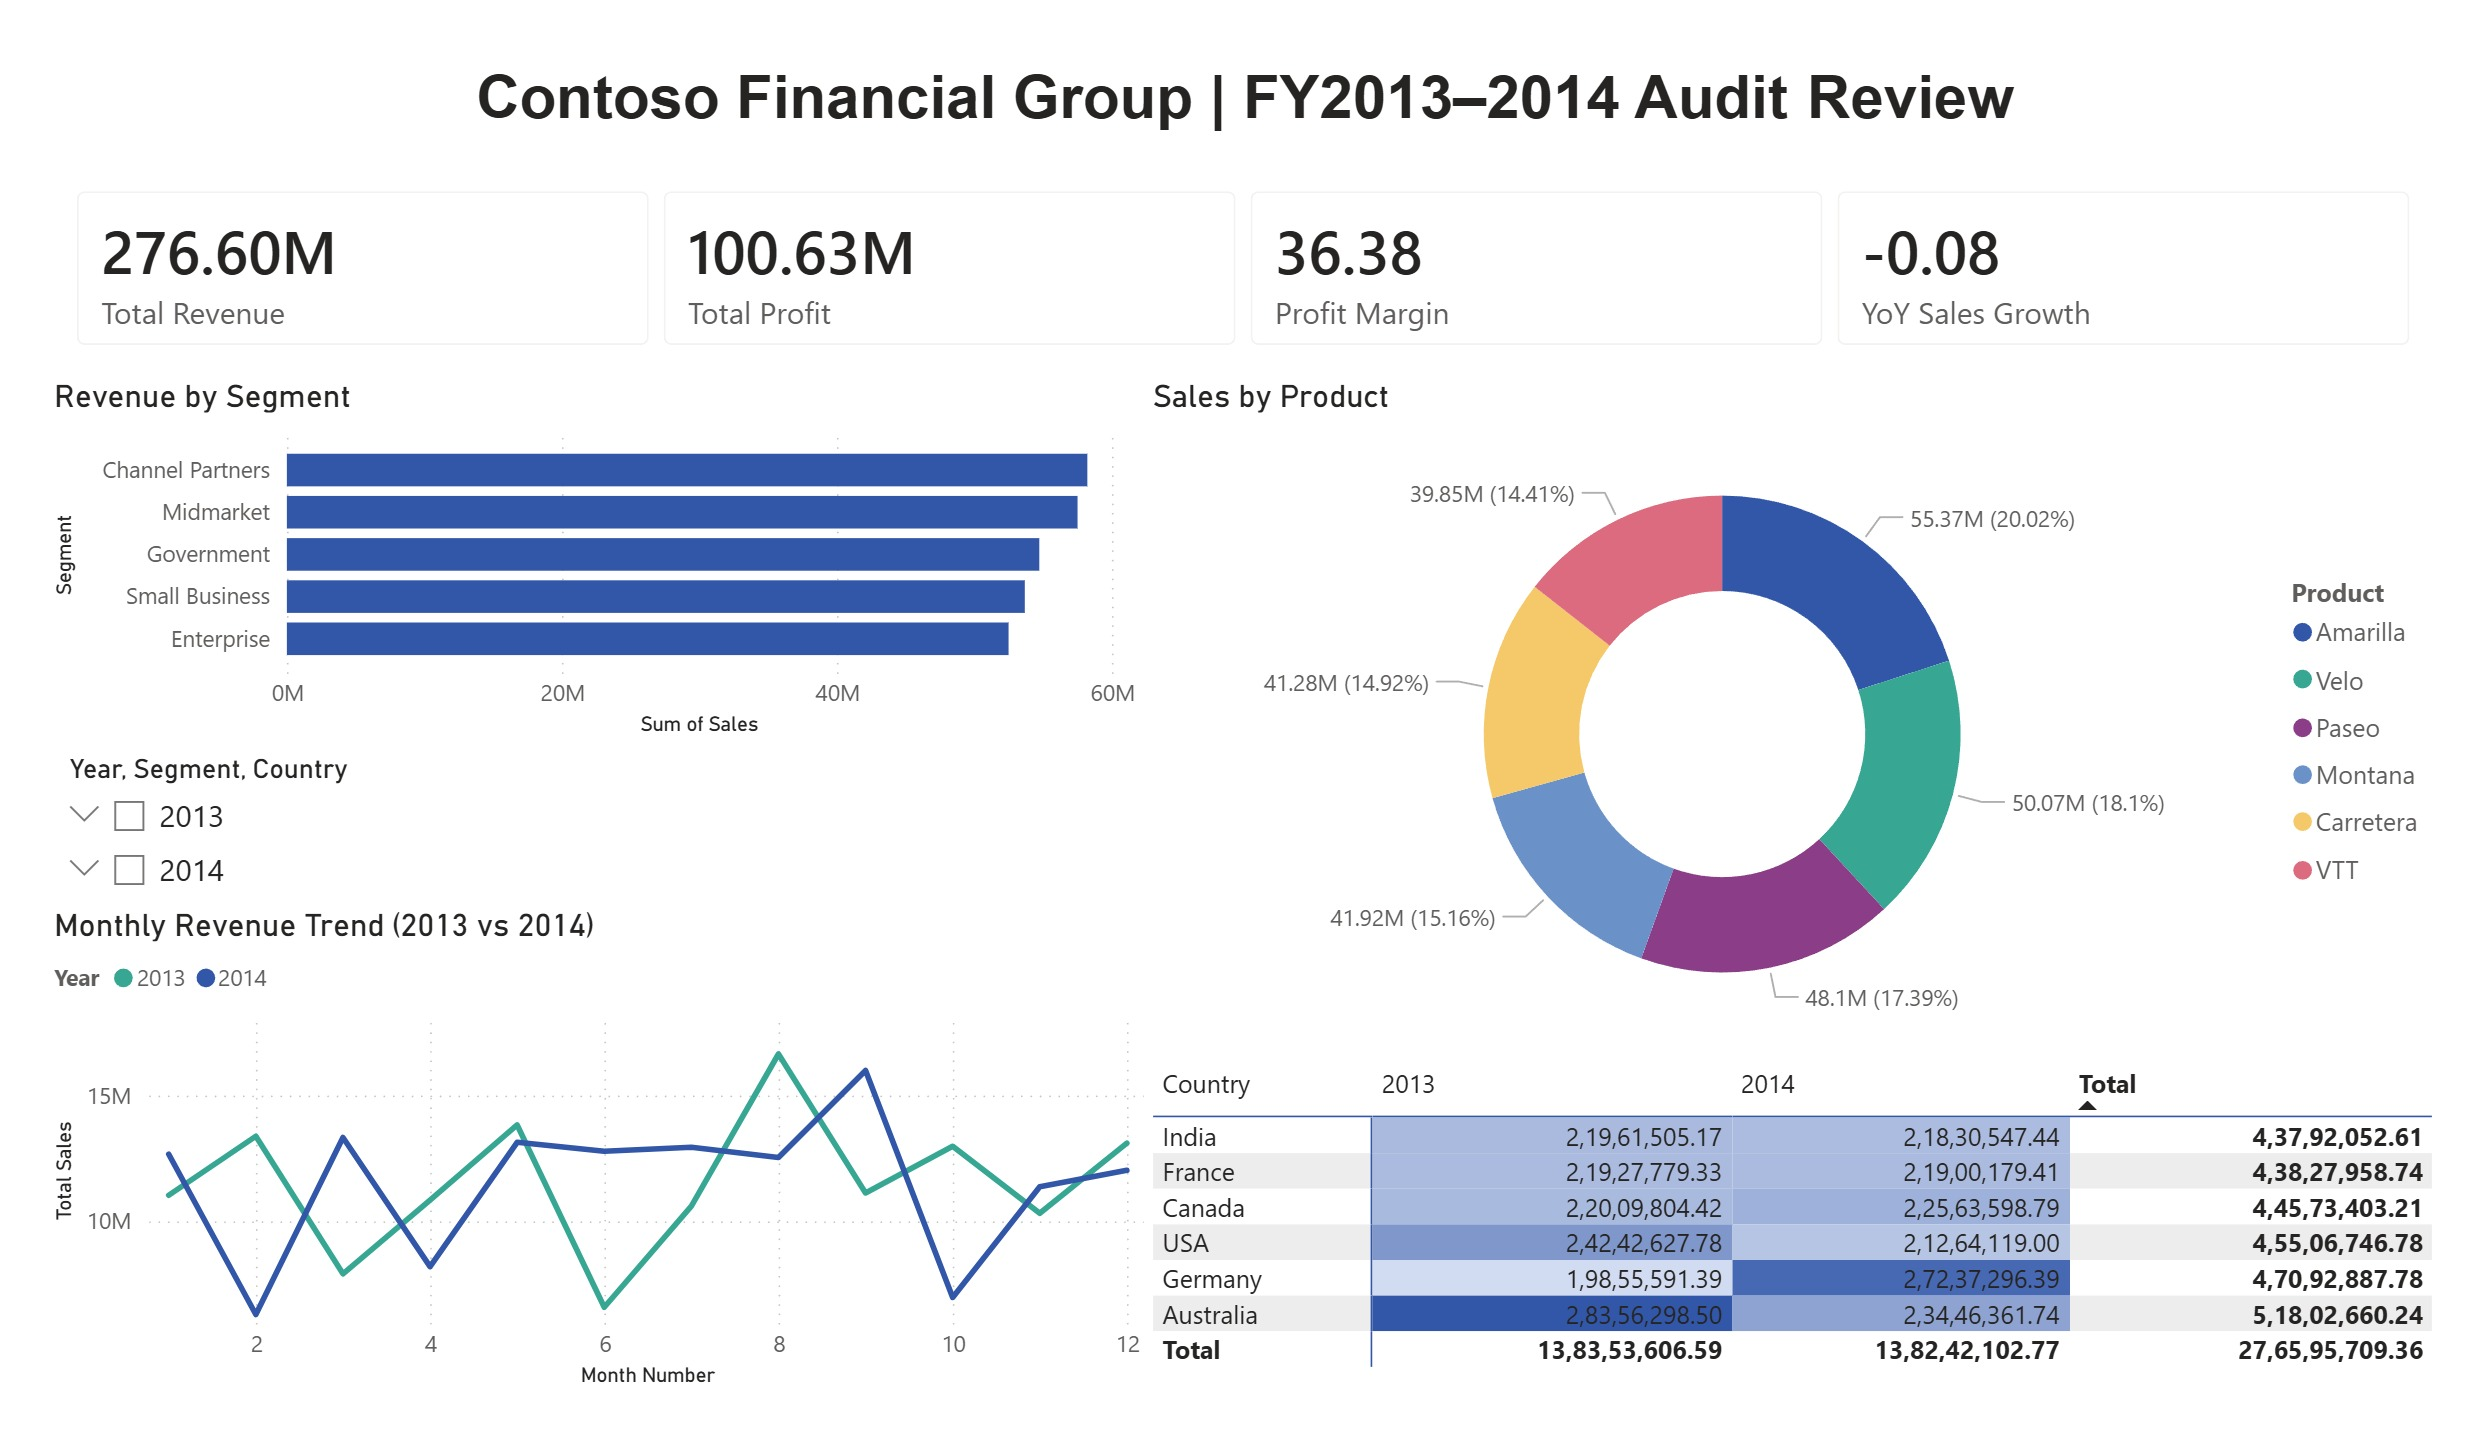

What the dashboard file says about the page in this screenshot:
{"tool":"powerbi","page":{"name":"Executive_Summary","canvas":[1280,720],"ordinal":0},"visuals":[{"type":"cardVisual","fields":{"Data":["Financial_Sample_Cleaned.Total Sales","Financial_Sample_Cleaned.Total Profit","Financial_Sample_Cleaned.Profit Margin %","Financial_Sample_Cleaned.YoY Sales Growth %"]},"box":[0,60.9,1279.7,116.4],"z":0},{"type":"clusteredBarChart","title":"Revenue by Segment","fields":{"Y":["Sum(Financial_Sample_Cleaned.Sales)"],"Category":["Financial_Sample_Cleaned.Segment"]},"box":[0,177.3,585.7,195.2],"z":1000},{"type":"lineChart","title":"Monthly Revenue Trend (2013 vs 2014)","fields":{"Y":["Financial_Sample_Cleaned.Total Sales"],"Category":["Financial_Sample_Cleaned.Month Number"],"Series":["Financial_Sample_Cleaned.Year"]},"box":[0,459.4,591.9,260.6],"z":2000},{"type":"donutChart","title":"Sales by Product","fields":{"Y":["Financial_Sample_Cleaned.Total Sales"],"Category":["Financial_Sample_Cleaned.Product"]},"box":[585.7,177.3,694,361.8],"z":3000},{"type":"pivotTable","fields":{"Rows":["Financial_Sample_Cleaned.Country"],"Columns":["Financial_Sample_Cleaned.Year"],"Values":["Financial_Sample_Cleaned.Total Sales"]},"box":[585.7,539.1,694,180.9],"z":4000},{"type":"slicer","fields":{"Values":["Financial_Sample_Cleaned.Year","Financial_Sample_Cleaned.Segment","Financial_Sample_Cleaned.Country"]},"box":[0,372.5,585.7,86.9],"z":5000},{"type":"textbox","box":[0,0,1279.7,60.9],"z":5001}]}

Visuals, with their boxes in screenshot pixels (x1, y1, x2, y2), scaled from the page's 1280x720 canvas onto the 2490x1440 screenshot:
cardVisual - Financial_Sample_Cleaned.Total Sales x Financial_Sample_Cleaned.Total Profit: <region>0, 122, 2489, 355</region>
"Revenue by Segment" clusteredBarChart: <region>0, 355, 1139, 745</region>
"Monthly Revenue Trend (2013 vs 2014)" lineChart: <region>0, 919, 1151, 1439</region>
"Sales by Product" donutChart: <region>1139, 355, 2489, 1078</region>
pivotTable - Financial_Sample_Cleaned.Country x Financial_Sample_Cleaned.Year: <region>1139, 1078, 2489, 1439</region>
slicer - Financial_Sample_Cleaned.Year x Financial_Sample_Cleaned.Segment: <region>0, 745, 1139, 919</region>
textbox: <region>0, 0, 2489, 122</region>
